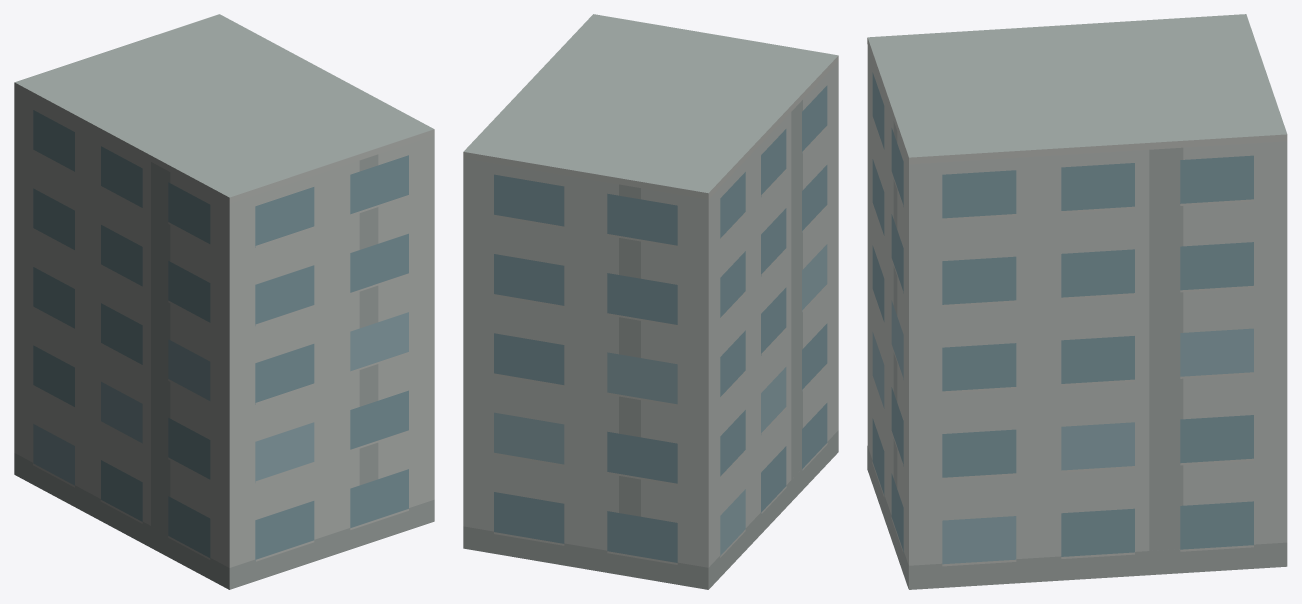
File: residential-fb2d658d-580d-4922-84ae-aed1d6eef4e3.glb
3 renders of one model, left to right at view 1: azimuth 30°, elevation 25°; view 2: azimuth 150°, elevation 25°; view 3: azimuth 270°, elevation 25°, orthographic. The views are drawn at different scales.
Parts seen in each view (by area): view 1: residential-fb2d658d-580d-4922-84ae-aed1d6eef4e3.tmp; view 2: residential-fb2d658d-580d-4922-84ae-aed1d6eef4e3.tmp; view 3: residential-fb2d658d-580d-4922-84ae-aed1d6eef4e3.tmp.
Boxes of the visible parts, <box> form: residential-fb2d658d-580d-4922-84ae-aed1d6eef4e3.tmp: <box>14,14,434,589</box>; residential-fb2d658d-580d-4922-84ae-aed1d6eef4e3.tmp: <box>463,14,838,589</box>; residential-fb2d658d-580d-4922-84ae-aed1d6eef4e3.tmp: <box>867,14,1287,589</box>.
Bounding box in the file's own units: 10.87 × 15.25 × 13.44.
